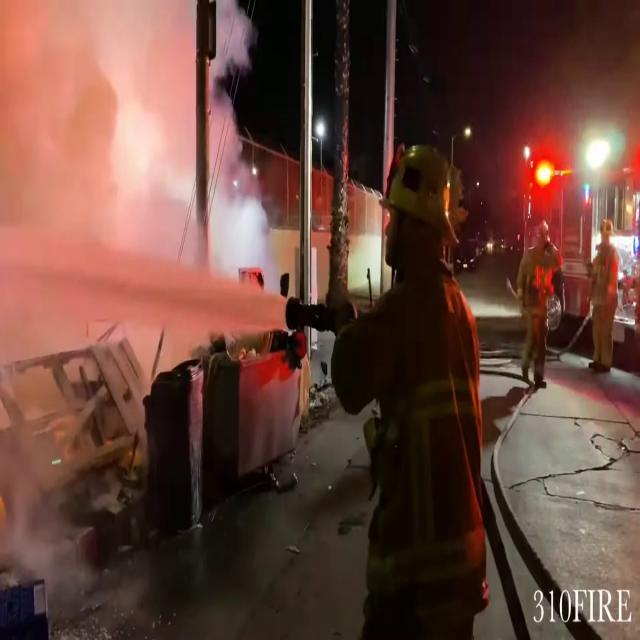Smoke: (0, 0, 287, 338)
